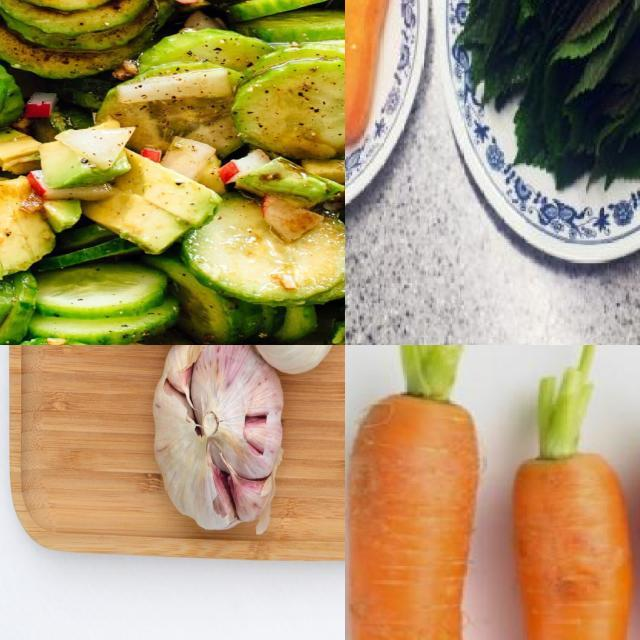carrot: (346, 370, 505, 640), (514, 432, 640, 640), (346, 1, 397, 154)
garlic: (150, 346, 286, 535)
